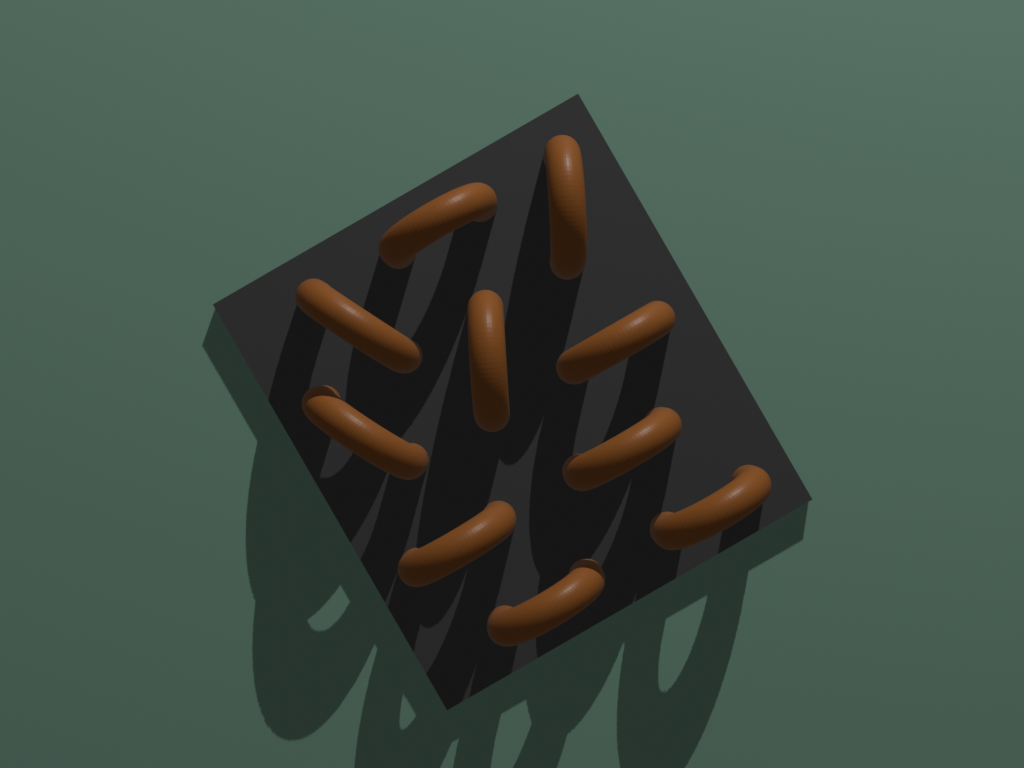return-bend: (279, 362, 449, 503), (273, 258, 442, 399), (353, 155, 524, 291), (534, 274, 705, 410), (540, 379, 711, 515), (626, 443, 797, 579), (465, 535, 636, 671), (376, 478, 547, 613), (454, 278, 521, 442), (531, 128, 597, 292)
